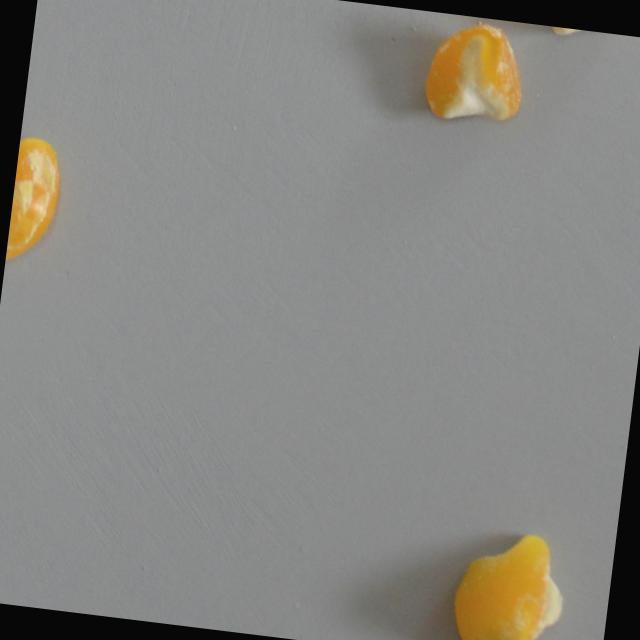dañado: (444, 516, 574, 640), (416, 11, 537, 134), (4, 126, 68, 270), (543, 25, 640, 54)
